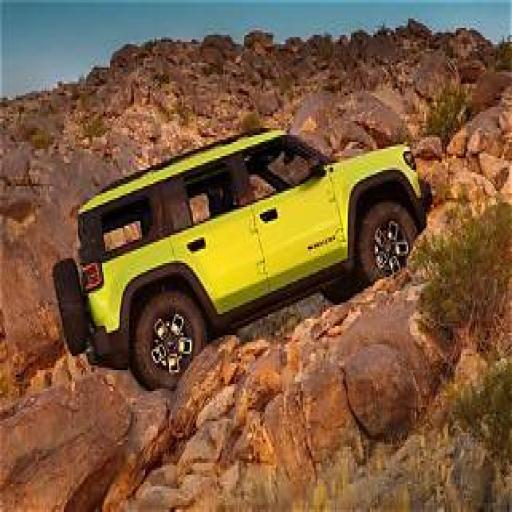car: (42, 88, 477, 397)
